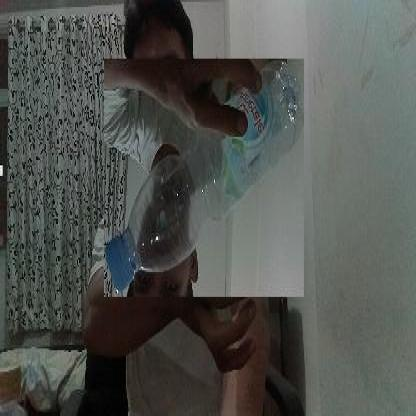plastic_bottles: (104, 59, 304, 296)
